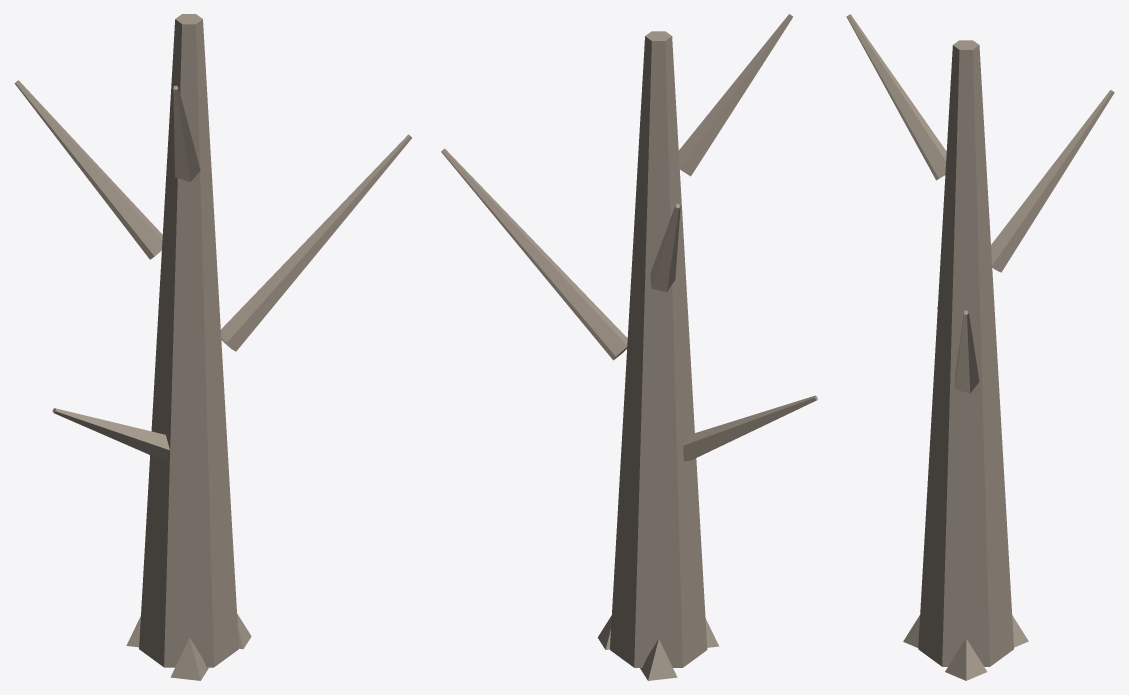
The model's file is SM_Tree_Dead.fbx.
3 views of the same model, side by side, from view 1: azimuth 30°, elevation 25°; view 2: azimuth 150°, elevation 25°; view 3: azimuth 270°, elevation 25° (orthographic). The views are drawn at different scales.
Parts seen in each view (by area): view 1: SM_Tree_Dead; view 2: SM_Tree_Dead; view 3: SM_Tree_Dead.
Part boxes in pixels (bbox=[...]): SM_Tree_Dead: bbox=[14, 14, 411, 680]; SM_Tree_Dead: bbox=[441, 14, 817, 680]; SM_Tree_Dead: bbox=[846, 14, 1114, 680].
Size of the model in its own units: 1.55 by 2.51 by 1.01.
